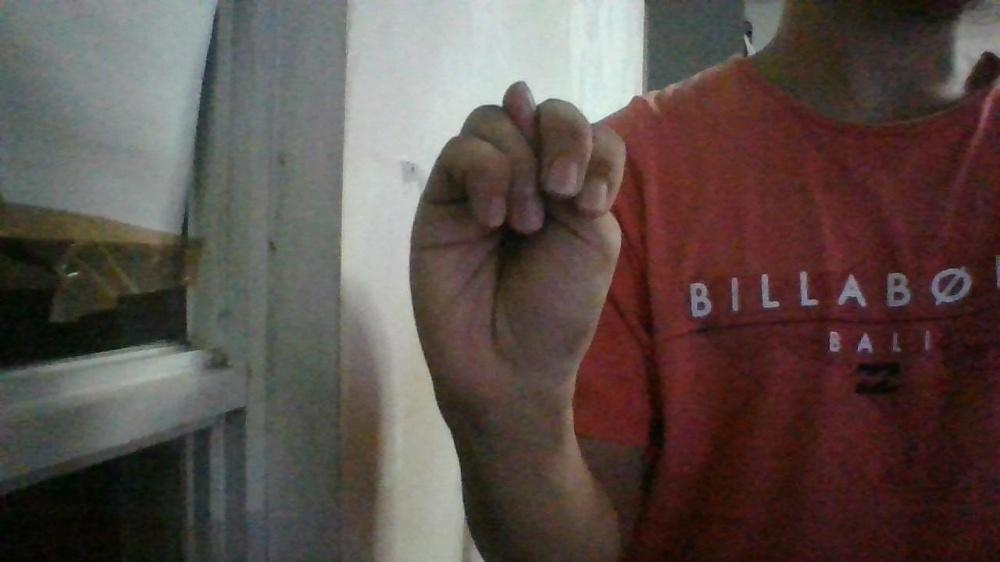n: (406, 78, 627, 400)
